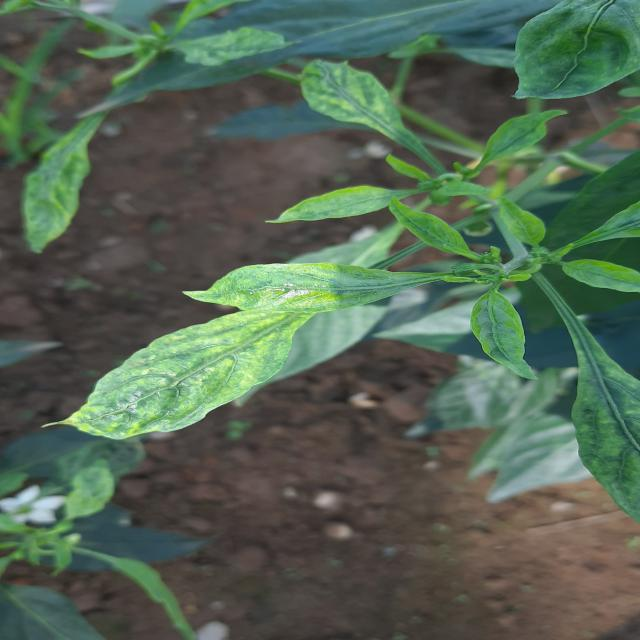thrips: (82, 316, 336, 438), (165, 243, 455, 325), (37, 436, 65, 438)
